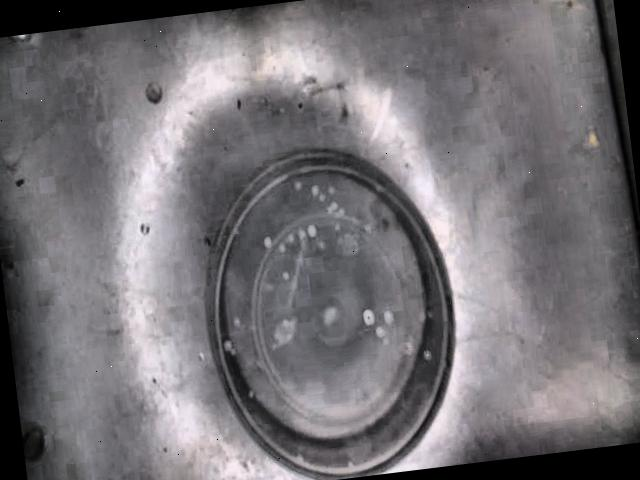Plastic: (203, 148, 457, 480)
